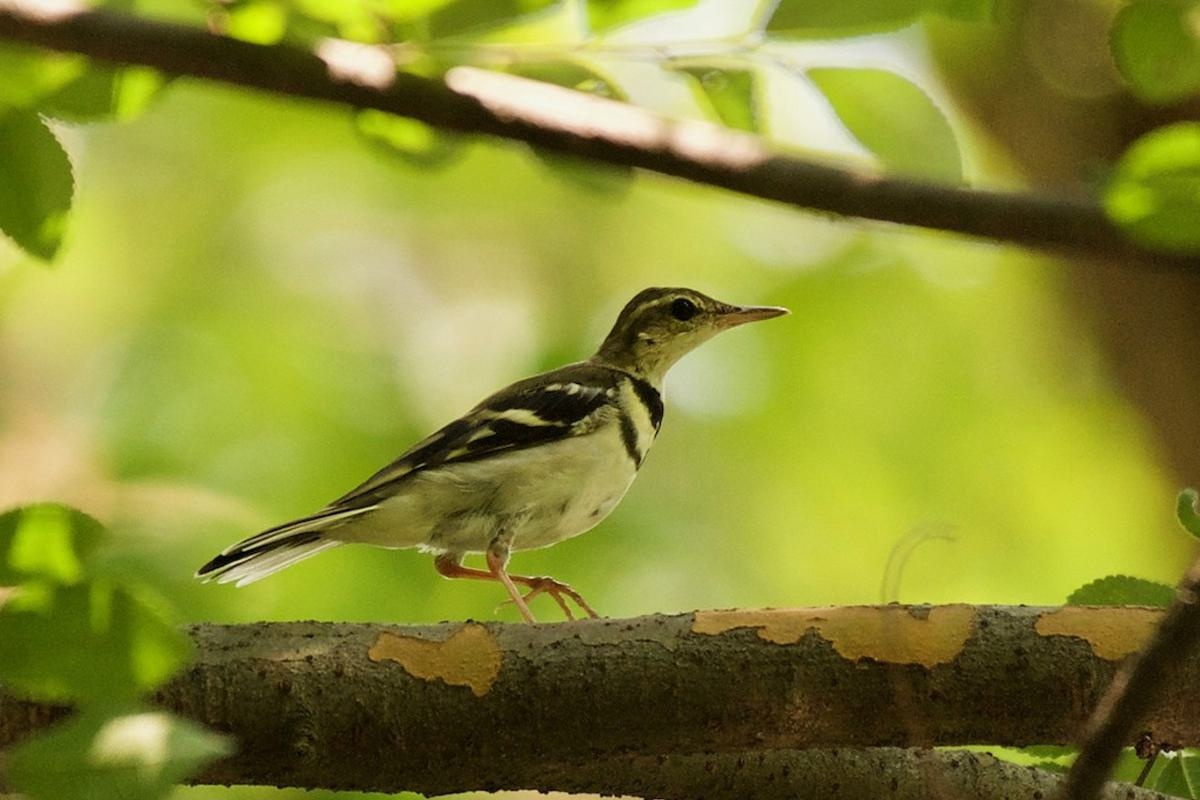wagtail: (135, 225, 845, 653)
